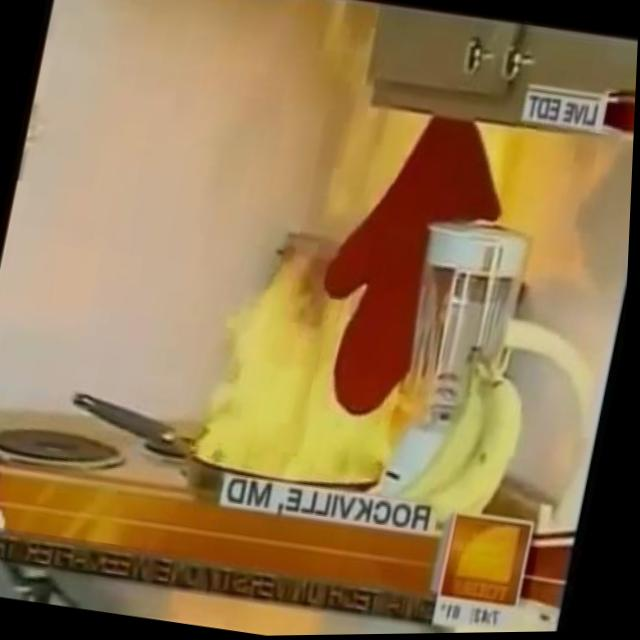fire: (182, 11, 517, 509)
